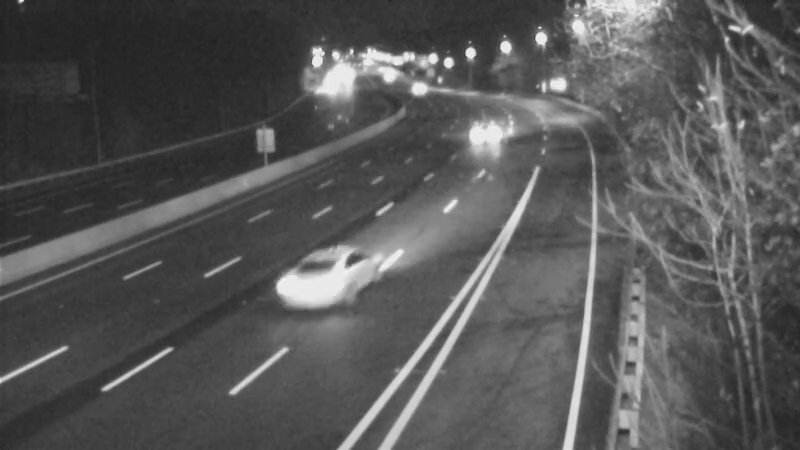vehicle: (284, 232, 364, 312), (391, 65, 441, 115), (456, 107, 506, 157)
